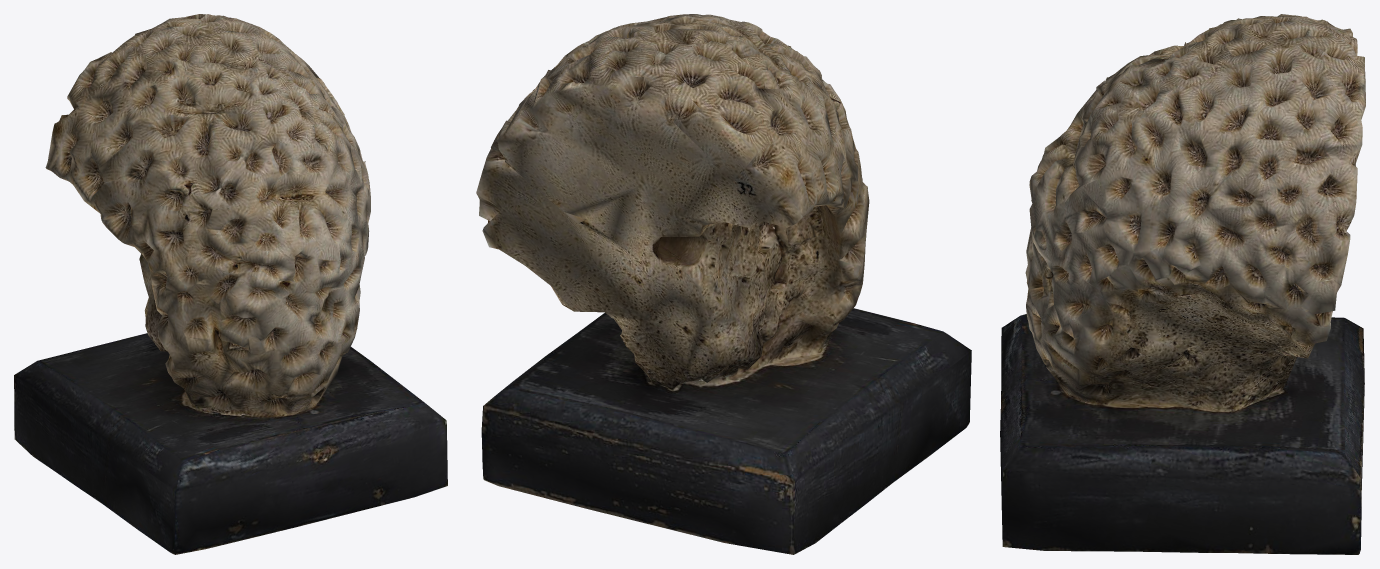
File: coral-favia.glb
3 views of the same model, side by side, from view 1: azimuth 30°, elevation 25°; view 2: azimuth 150°, elevation 25°; view 3: azimuth 270°, elevation 25° (orthographic). The views are drawn at different scales.
Bounding box in the file's own units: 1.52 × 1.98 × 1.45.
Materials: 1 (1 with a texture image).
